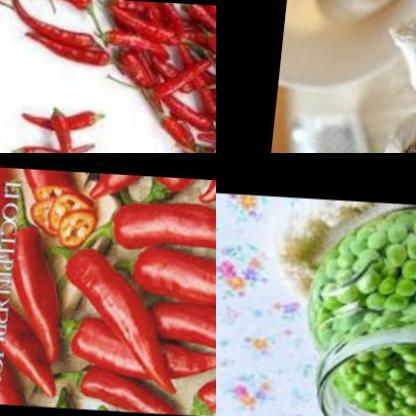garlic: (379, 0, 416, 99), (311, 0, 402, 27)
hot pepper: (0, 0, 216, 153), (36, 228, 202, 397), (0, 198, 85, 357), (67, 302, 216, 378), (83, 184, 216, 259), (121, 233, 216, 315), (0, 86, 115, 153), (0, 289, 68, 394), (68, 356, 195, 410), (14, 166, 101, 244), (129, 293, 216, 369), (78, 169, 148, 202), (134, 171, 196, 206), (191, 360, 216, 415), (191, 173, 216, 202)
peas: (301, 214, 416, 416)
